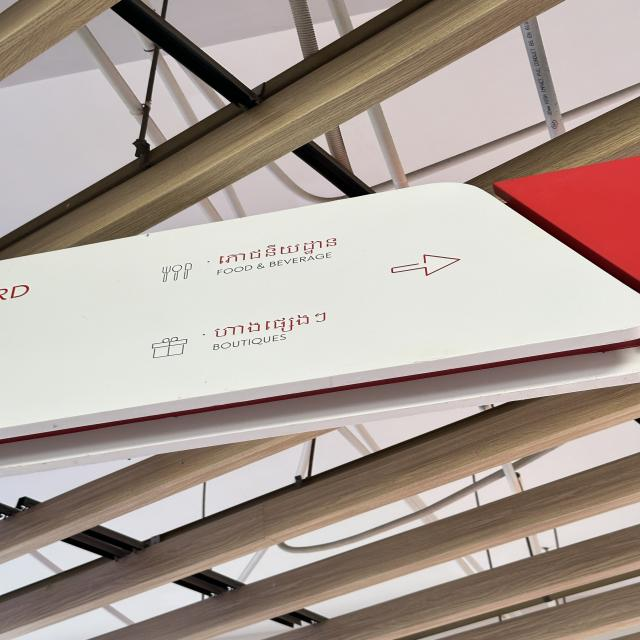Yolov11_80vkh: (207, 232, 341, 266), (210, 307, 331, 342)
